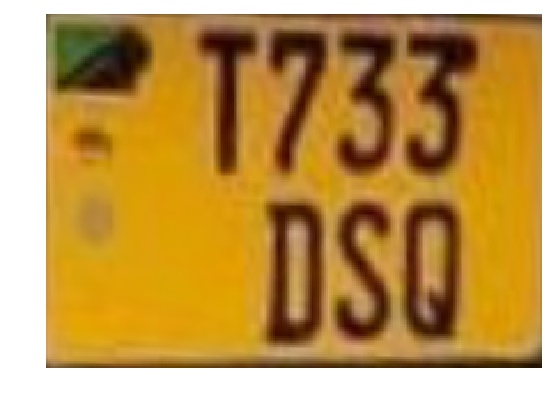T: (184, 24, 266, 182)
